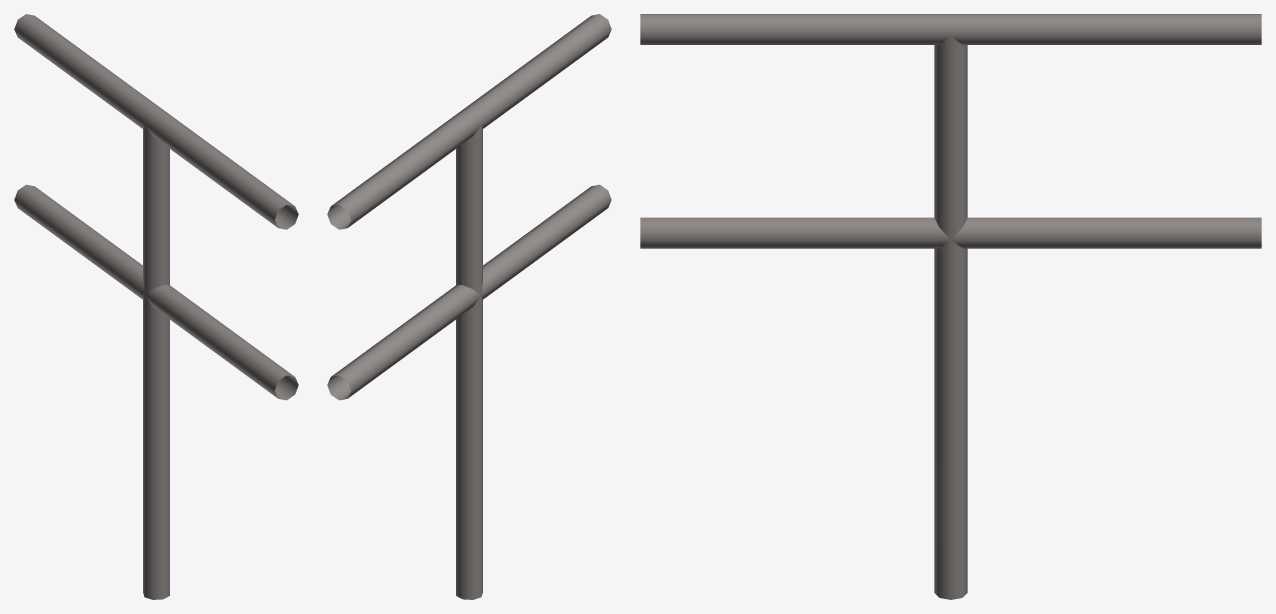
The model's file is SM_Railing_100.fbx.
The picture shows the model from 3 angles, left to right: view 1: azimuth 30°, elevation 25°; view 2: azimuth 150°, elevation 25°; view 3: azimuth 270°, elevation 25°; orthographic projection. The views are drawn at different scales.
Visible parts, largest first — view 1: SM_Railing_100; view 2: SM_Railing_100; view 3: SM_Railing_100.
Boxes of the visible parts, box(x1,y1,x2,y2) form: SM_Railing_100: box(14, 14, 298, 599); SM_Railing_100: box(327, 14, 611, 599); SM_Railing_100: box(640, 14, 1261, 599).
Size of the model in its own units: 5.31 by 103 by 100.
